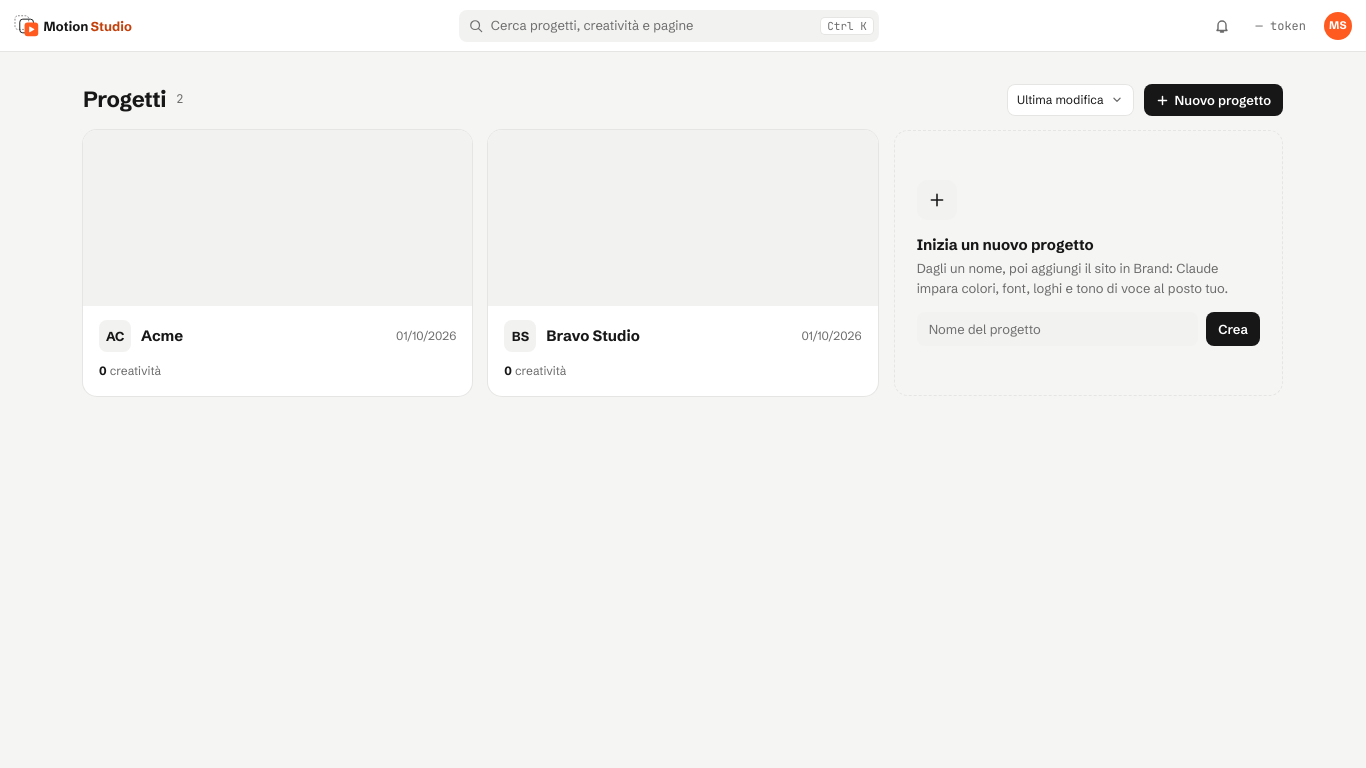
activity center › keeps at most the last 20 results
What coordinates should you click on to do the following:
click the button named "Attività"
I would click on:
 (1222, 26)
Its box is [1206,10,1238,42].
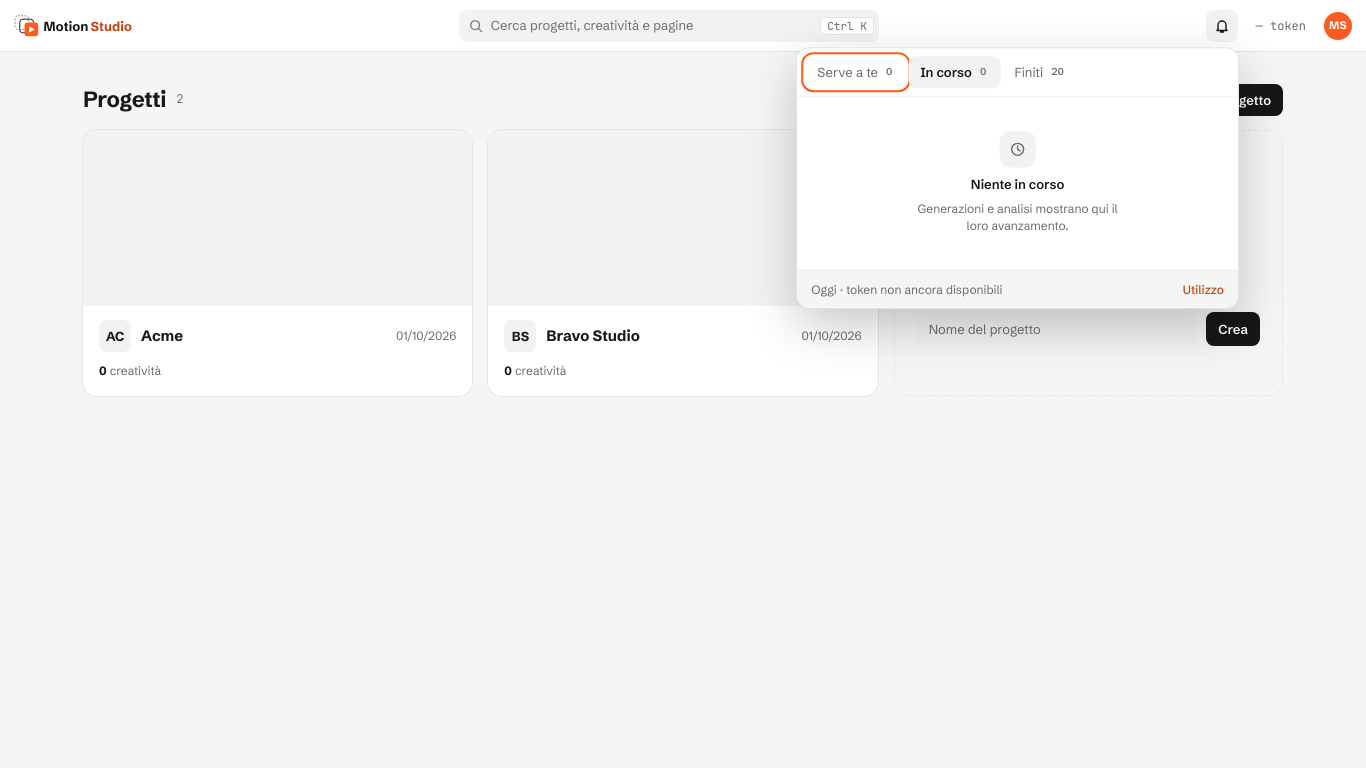
What coordinates should you click on to do the following:
click the tab "Finiti 20"
I would click on:
 (1039, 72)
Its box is [1002,56,1077,88].
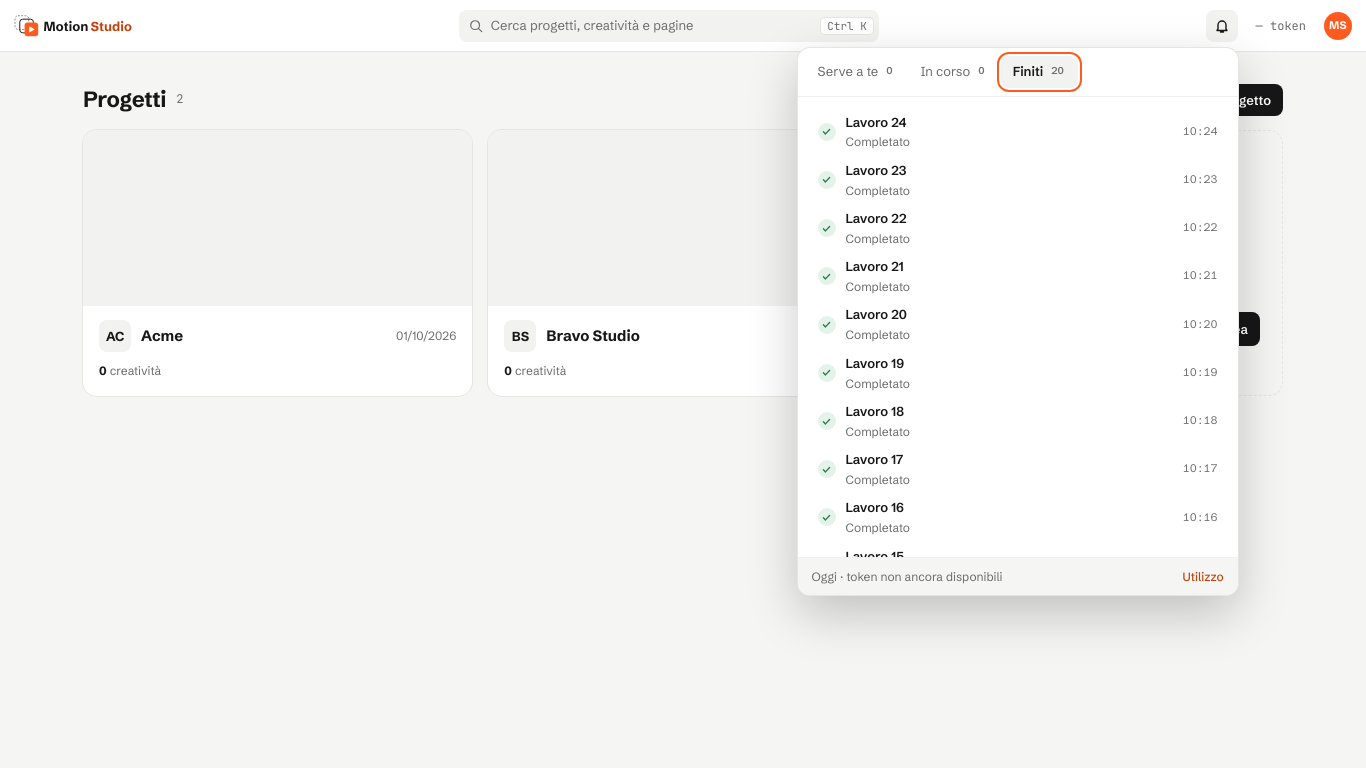
Check: the text "Lavoro 24" is shown, box [846,114,906,130]
